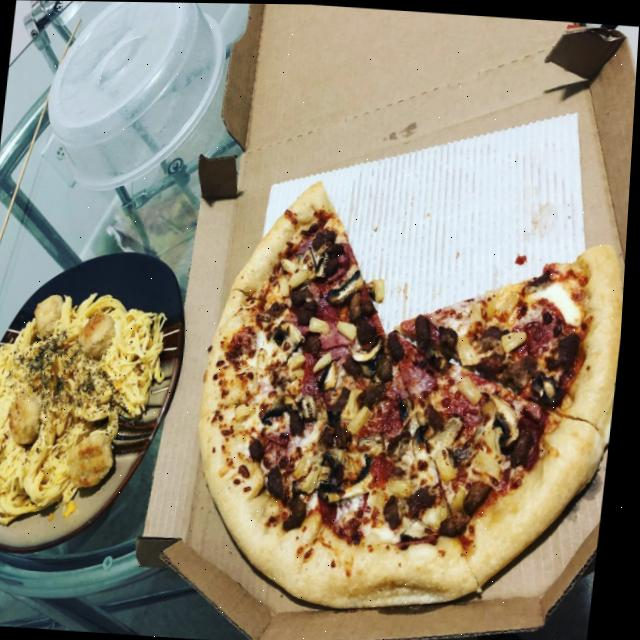mushrooms: (489, 388, 529, 450), (329, 264, 367, 308), (325, 358, 344, 388), (318, 250, 334, 275)
pizza: (181, 170, 632, 627)
